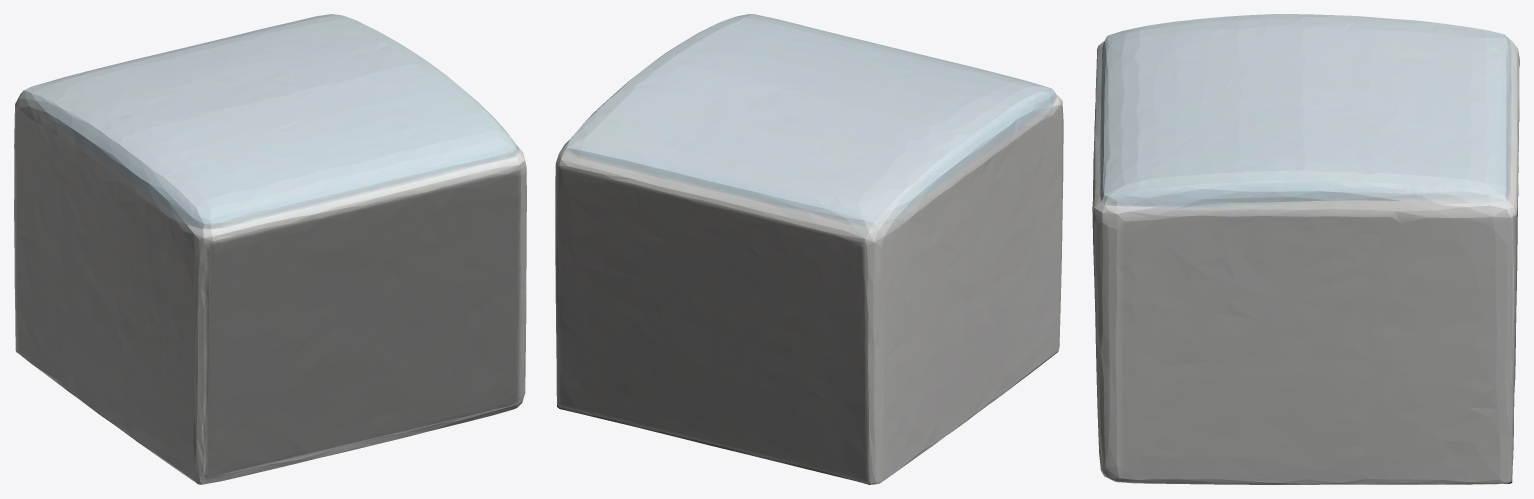
Rendered from ast_f080e5f7a1a8.glb.
The picture shows the model from 3 angles, left to right: view 1: azimuth 30°, elevation 25°; view 2: azimuth 150°, elevation 25°; view 3: azimuth 270°, elevation 25°; orthographic projection. The views are drawn at different scales.
Parts seen in each view (by area): view 1: geometry_0; view 2: geometry_0; view 3: geometry_0.
Part boxes in pixels (x1,y1,x2,y2): geometry_0: [14, 14, 526, 484]; geometry_0: [555, 14, 1063, 484]; geometry_0: [1092, 14, 1519, 484].
Bounding box in the file's own units: 0.3364 × 0.2693 × 0.338.
Materials: 1 (1 with a texture image).
